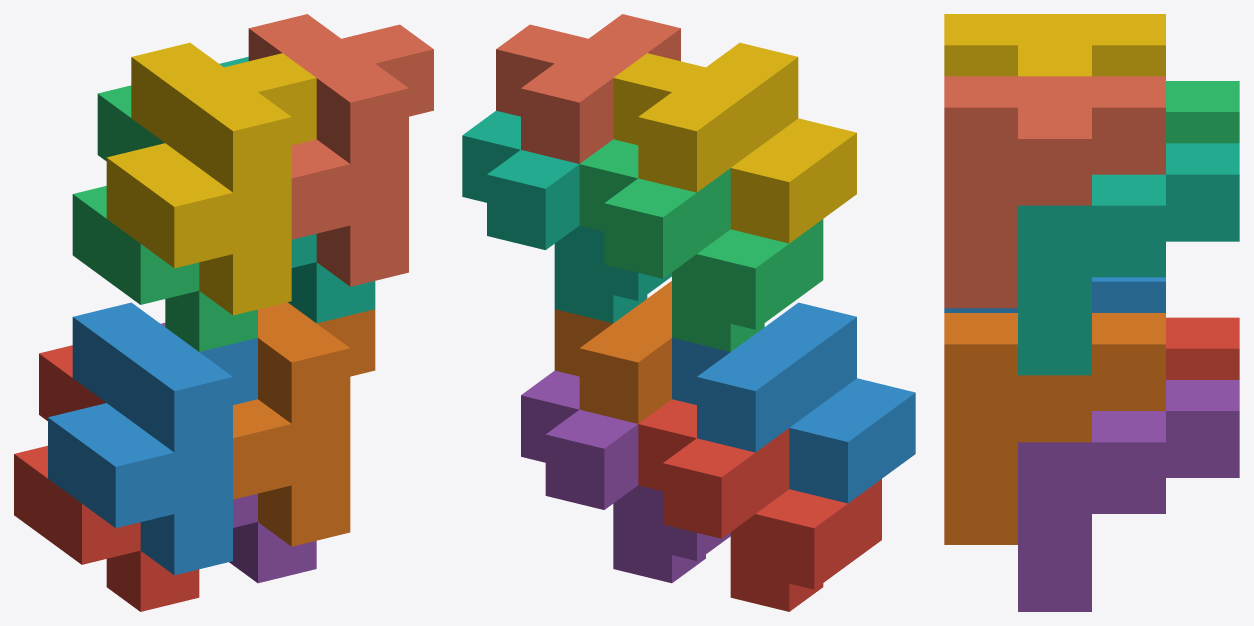
File: tiling.obj
3 renders of one model, left to right at view 1: azimuth 30°, elevation 25°; view 2: azimuth 150°, elevation 25°; view 3: azimuth 270°, elevation 25°, orthographic. The views are drawn at different scales.
Parts seen in each view (by area): view 1: copy_1_domain_4, copy_1_domain_2, copy_1_domain_8, copy_1_domain_6, copy_1_domain_3, copy_1_domain_1, copy_1_domain_7, copy_1_domain_5; view 2: copy_1_domain_4, copy_1_domain_2, copy_1_domain_3, copy_1_domain_1, copy_1_domain_7, copy_1_domain_5, copy_1_domain_8, copy_1_domain_6; view 3: copy_1_domain_8, copy_1_domain_6, copy_1_domain_7, copy_1_domain_5, copy_1_domain_4, copy_1_domain_1, copy_1_domain_3, copy_1_domain_2.
Part boxes in pixels (bbox=[...]): copy_1_domain_4: bbox=[106, 42, 316, 315]; copy_1_domain_2: bbox=[48, 302, 257, 575]; copy_1_domain_8: bbox=[248, 14, 433, 286]; copy_1_domain_6: bbox=[233, 302, 375, 546]; copy_1_domain_3: bbox=[72, 85, 257, 351]; copy_1_domain_1: bbox=[14, 345, 199, 611]; copy_1_domain_7: bbox=[219, 56, 375, 323]; copy_1_domain_5: bbox=[161, 322, 316, 583]; copy_1_domain_4: bbox=[613, 42, 856, 243]; copy_1_domain_2: bbox=[672, 302, 915, 503]; copy_1_domain_3: bbox=[579, 139, 823, 351]; copy_1_domain_1: bbox=[638, 399, 881, 611]; copy_1_domain_7: bbox=[462, 110, 671, 323]; copy_1_domain_5: bbox=[521, 370, 730, 583]; copy_1_domain_8: bbox=[496, 14, 680, 163]; copy_1_domain_6: bbox=[554, 281, 671, 423]; copy_1_domain_8: bbox=[944, 76, 1165, 308]; copy_1_domain_6: bbox=[944, 313, 1165, 544]; copy_1_domain_7: bbox=[1018, 143, 1239, 375]; copy_1_domain_5: bbox=[1018, 380, 1239, 611]; copy_1_domain_4: bbox=[944, 14, 1165, 76]; copy_1_domain_1: bbox=[1166, 317, 1239, 379]; copy_1_domain_3: bbox=[1166, 81, 1239, 143]; copy_1_domain_2: bbox=[944, 277, 1165, 312].
Size of the model in its own units: 6 by 8 by 4.
